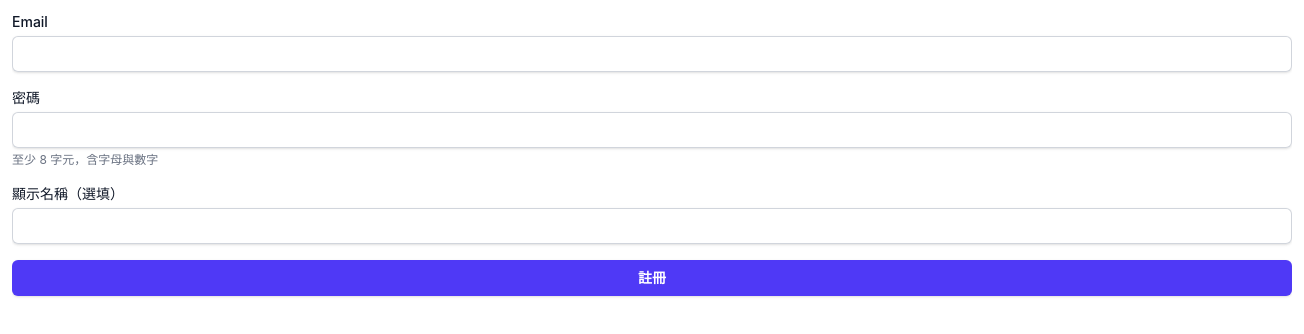
RegisterForm › renders server validation errors on 422
The width and height of the screenshot is (1304, 334).
Step 1. Type "dup@example.com" into the field labelled "Email" → (652, 54), box [12,36,1292,72]
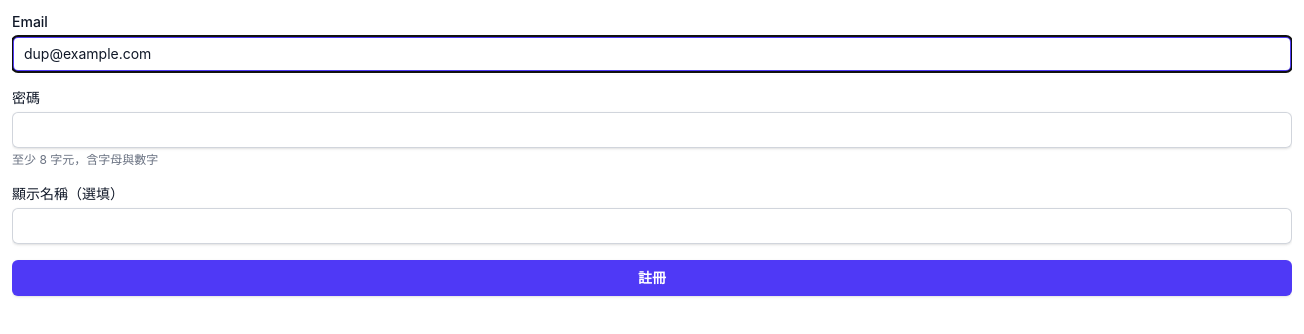
Step 2. Type "Strong1pass" into the password field labelled "密碼" → (652, 130), box [12,112,1292,148]
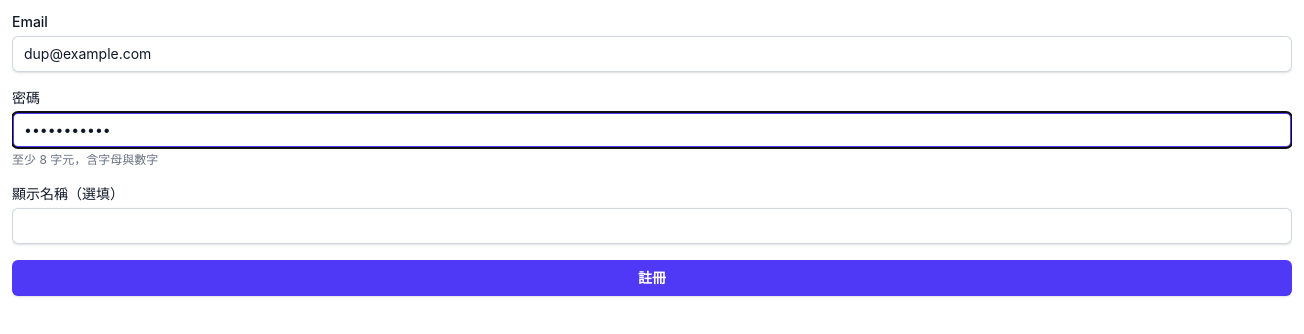
Step 3. Click the button "註冊" → (652, 278), box [12,260,1292,296]
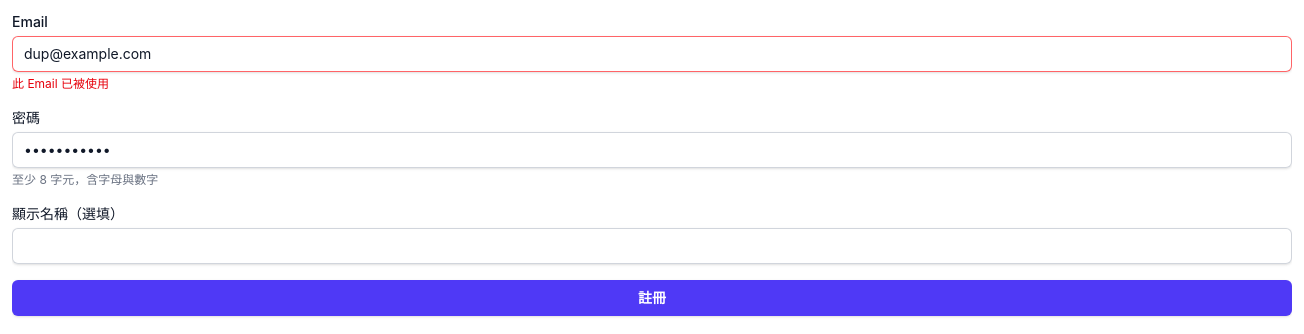
Result: the text "此 Email 已被使用" is shown at [12,76,109,91]
